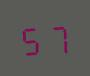five: (19, 21, 44, 56)
seven: (45, 20, 70, 54)
